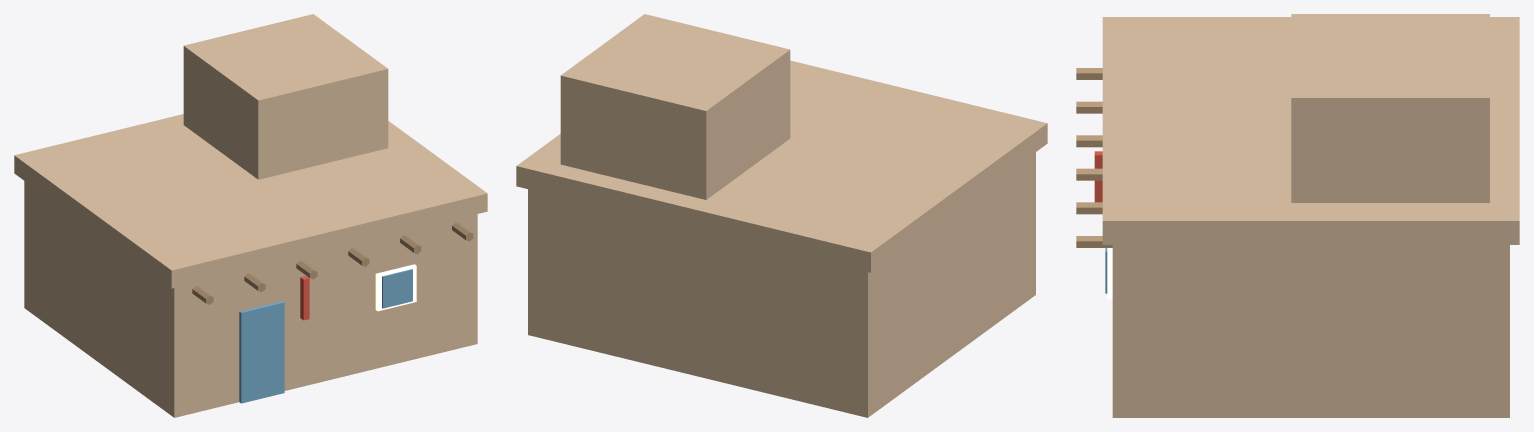
The model's file is adobe.glb.
3 renders of one model, left to right at view 1: azimuth 30°, elevation 25°; view 2: azimuth 150°, elevation 25°; view 3: azimuth 270°, elevation 25°, orthographic. The views are drawn at different scales.
Parts seen in each view (by area): view 1: adobe; view 2: adobe; view 3: adobe.
Boxes of the visible parts, x1,y1,x2,y2 form: adobe: [14, 14, 487, 417]; adobe: [516, 14, 1047, 417]; adobe: [1076, 14, 1519, 417].
Size of the model in its own units: 7.3 by 5.1 by 6.7.
